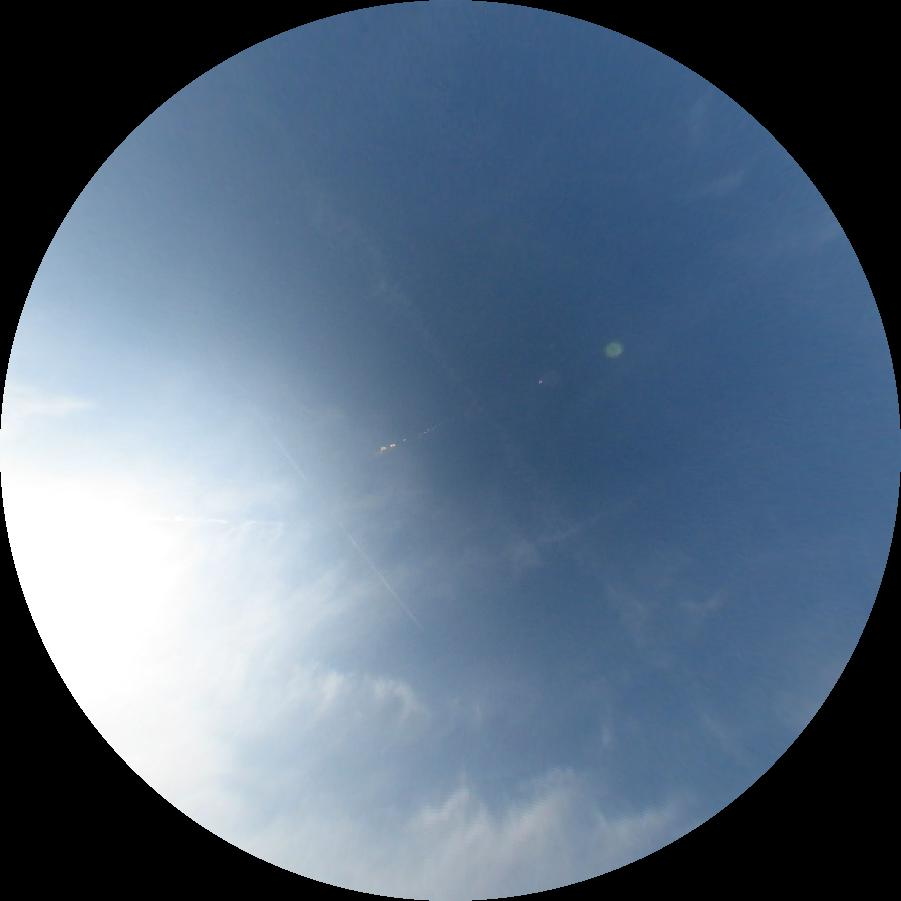contrail veryold: (281, 154, 751, 770)
contrail young: (257, 407, 422, 627)
parasite: (124, 513, 299, 525)
sun: (6, 490, 200, 666)
